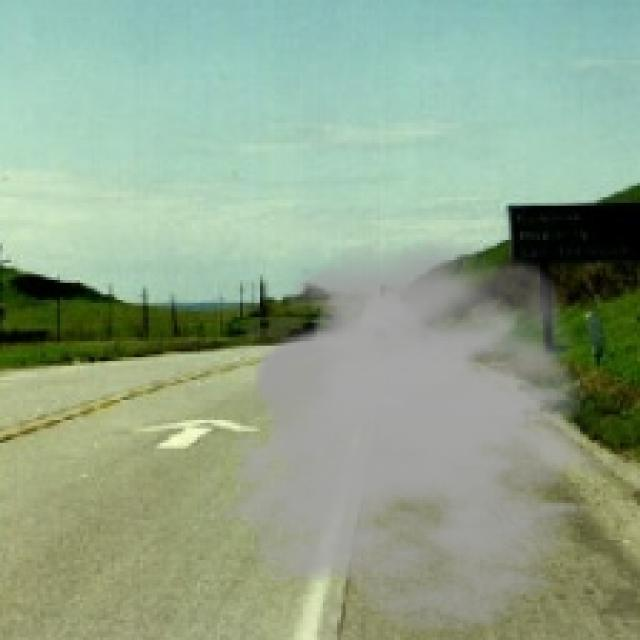smoke: (217, 237, 634, 634)
